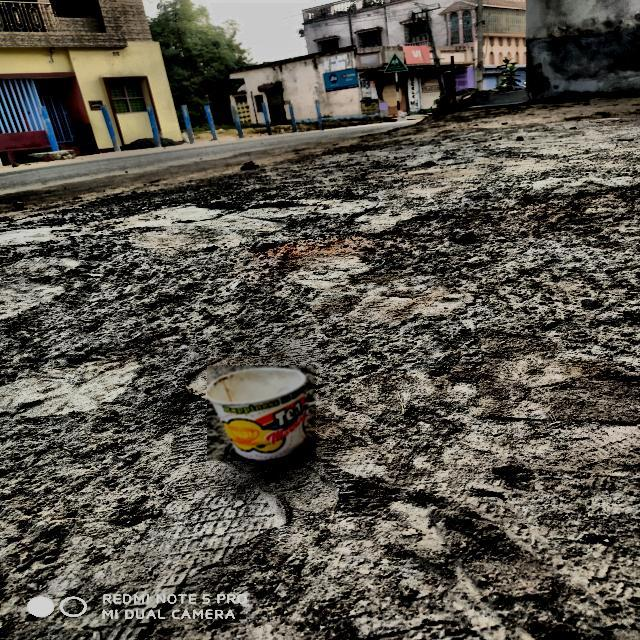anorganik: (208, 366, 315, 461)
